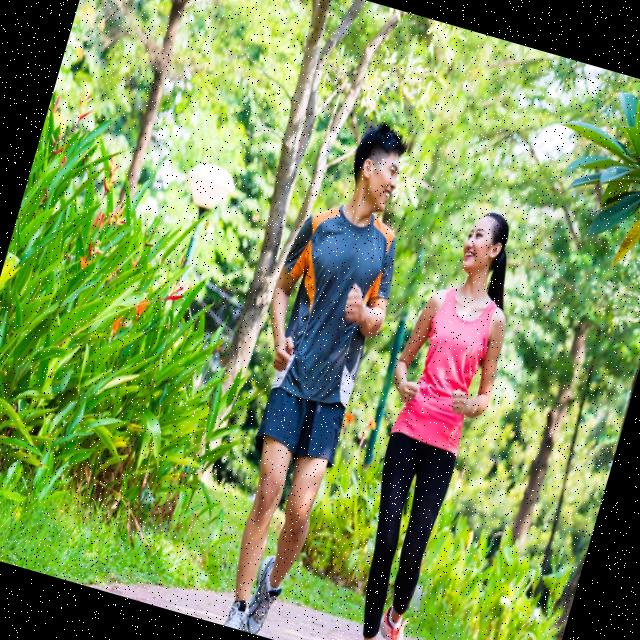Person: (180, 104, 436, 640), (314, 198, 538, 640)
